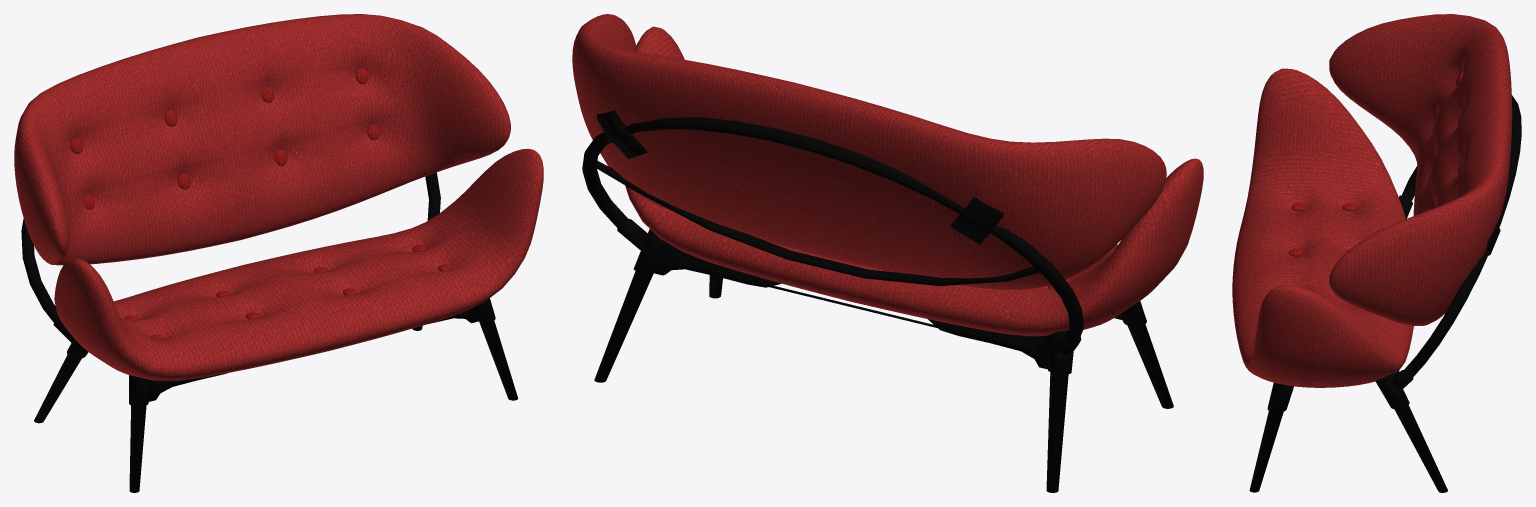
The model's file is mini-canapea.df7c2d2279.glb.
The picture shows the model from 3 angles, left to right: view 1: azimuth 30°, elevation 25°; view 2: azimuth 150°, elevation 25°; view 3: azimuth 270°, elevation 25°; orthographic projection. The views are drawn at different scales.
Visible parts, largest first — view 1: StaticMesh_minisofaefni_0, StaticMesh_minisofafeet_0, StaticMesh_minisofahnappar_0; view 2: StaticMesh_minisofaefni_0, StaticMesh_minisofafeet_0; view 3: StaticMesh_minisofaefni_0, StaticMesh_minisofafeet_0, StaticMesh_minisofahnappar_0.
Boxes of the visible parts, x1=… form: StaticMesh_minisofaefni_0: x1=14, y1=14, x2=543, y2=380; StaticMesh_minisofafeet_0: x1=21, y1=172, x2=517, y2=492; StaticMesh_minisofahnappar_0: x1=70, y1=68, x2=451, y2=339; StaticMesh_minisofaefni_0: x1=572, y1=14, x2=1203, y2=336; StaticMesh_minisofafeet_0: x1=582, y1=110, x2=1173, y2=492; StaticMesh_minisofaefni_0: x1=1232, y1=14, x2=1512, y2=387; StaticMesh_minisofafeet_0: x1=1249, y1=95, x2=1521, y2=492; StaticMesh_minisofahnappar_0: x1=1288, y1=71, x2=1463, y2=256.
Bounding box in the file's own units: 1.21 × 0.7829 × 0.6628.
Materials: 3 (2 with a texture image).
